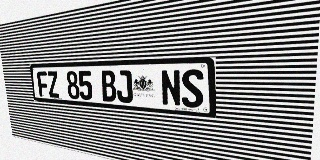5: (78, 71, 93, 100)
8: (66, 71, 80, 99)
B: (100, 70, 117, 102)
F: (37, 71, 49, 97)
J: (115, 70, 133, 103)
N: (160, 69, 181, 107)
S: (181, 69, 204, 108)
Z: (47, 71, 60, 98)
